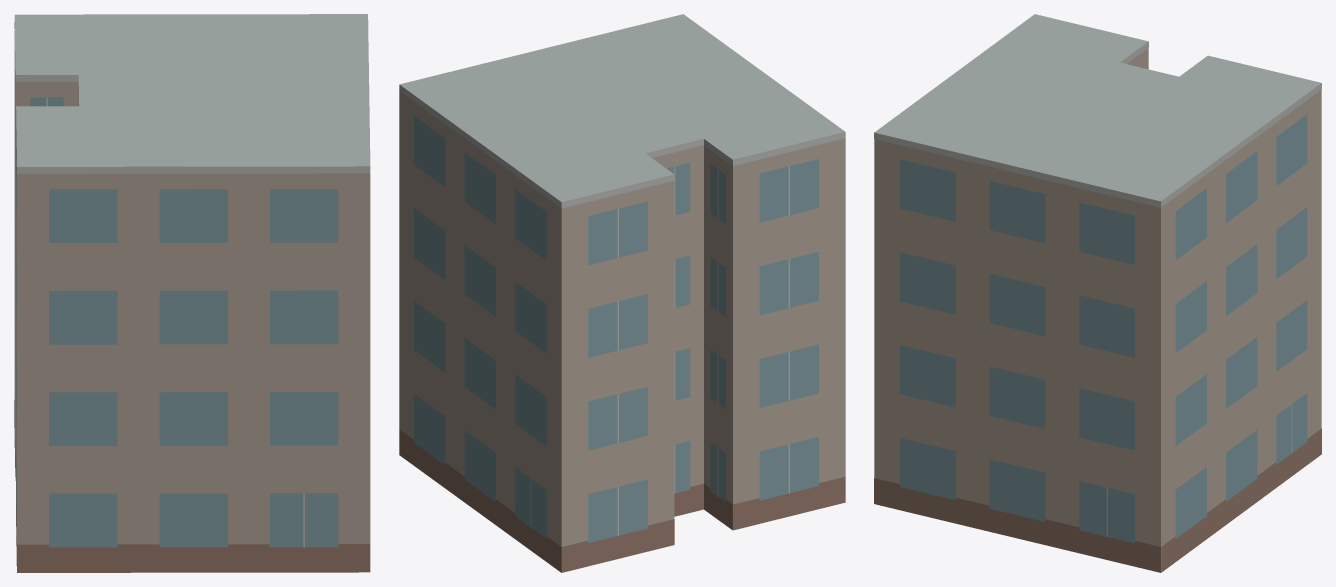
The model's file is survey-upis-32908317.glb.
3 views of the same model, side by side, from view 1: azimuth 30°, elevation 25°; view 2: azimuth 150°, elevation 25°; view 3: azimuth 270°, elevation 25° (orthographic). The views are drawn at different scales.
Parts seen in each view (by area): view 1: survey-upis-32908317.tmp; view 2: survey-upis-32908317.tmp; view 3: survey-upis-32908317.tmp.
Part boxes in pixels (x1,y1,x2,y2): survey-upis-32908317.tmp: (14, 14, 370, 572); survey-upis-32908317.tmp: (399, 14, 845, 572); survey-upis-32908317.tmp: (874, 14, 1321, 572).
Size of the model in its own units: 15.38 by 14.2 by 15.52.
